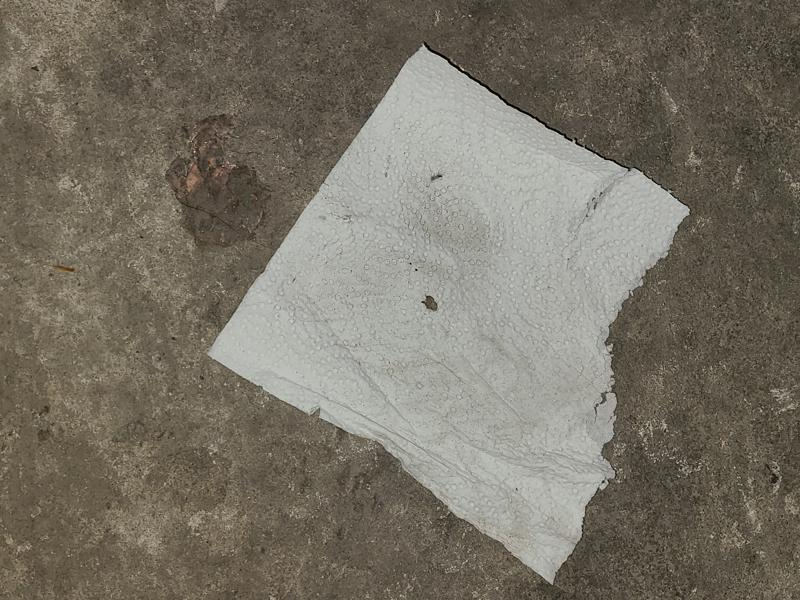papel: (206, 45, 689, 584)
